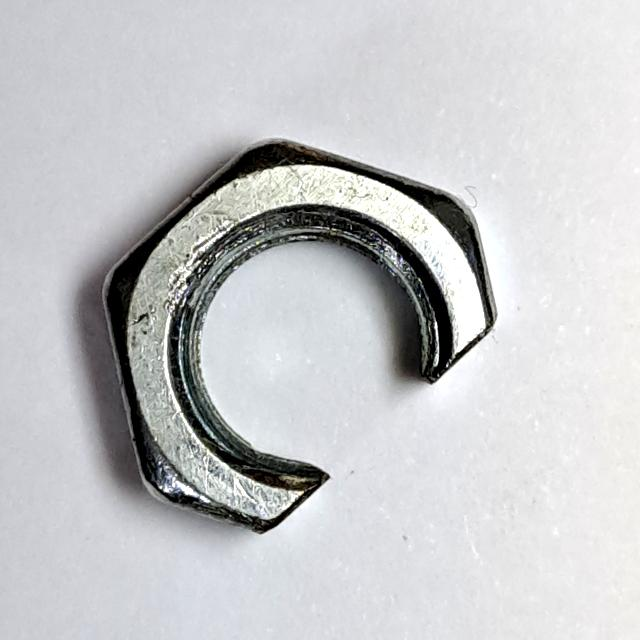Fracture: (94, 123, 507, 542)
